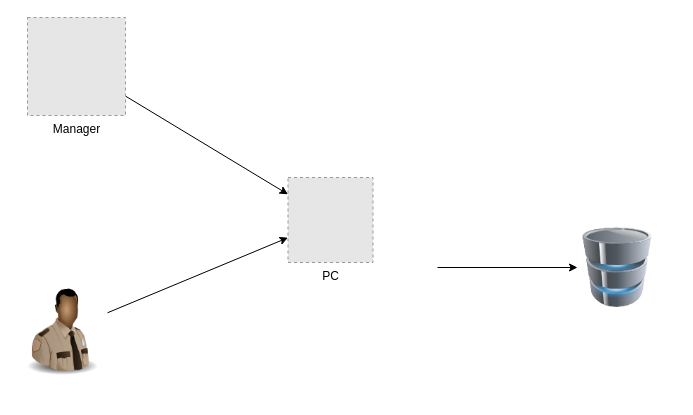
The diagram is 693 pixels wide and 415 high, and some of its shapes have lost their labels. Grey dashed boxes stand in for pictures. Each missing label, with the box of its shape:
Mysql Databse Server: (577, 227, 657, 307)
Security: (17, 286, 107, 376)
